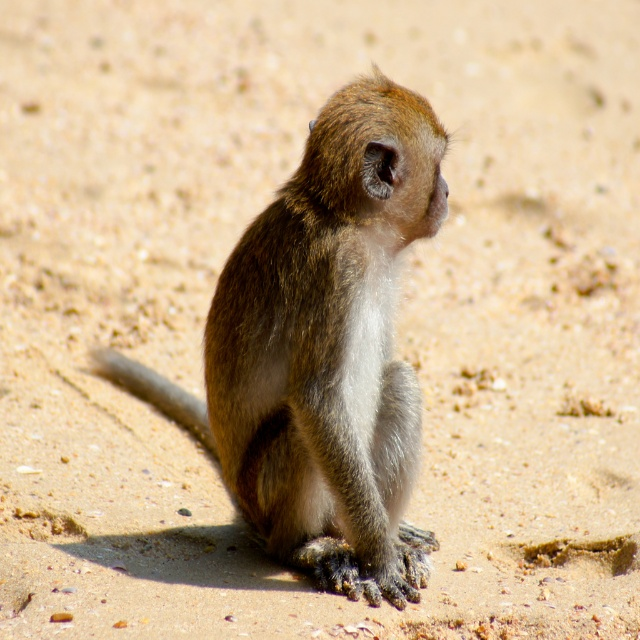Monkey: (200, 47, 471, 640)
